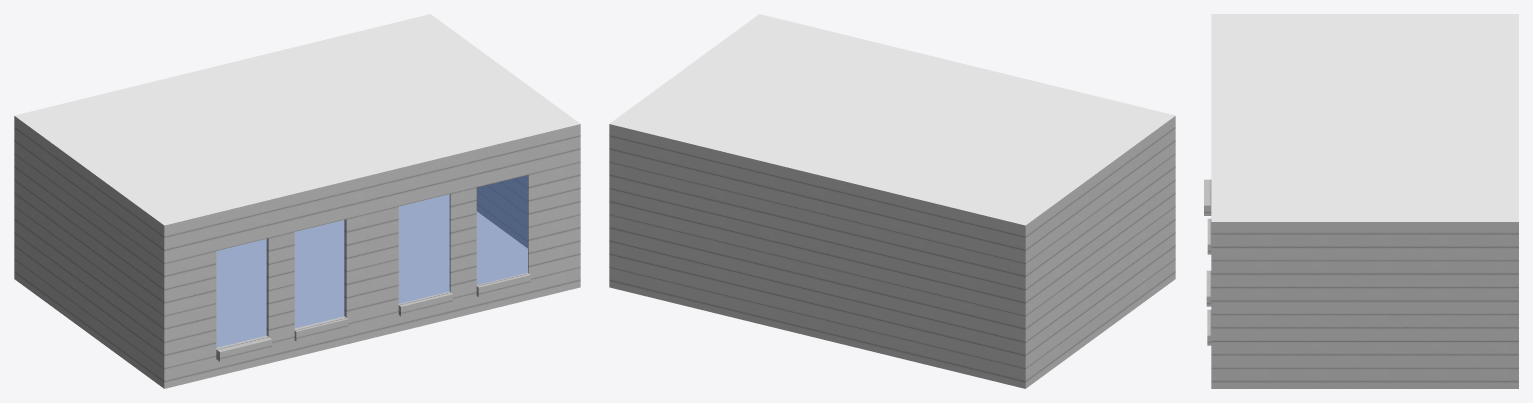
The model's file is maison3_first.dae.
3 views of the same model, side by side, from view 1: azimuth 30°, elevation 25°; view 2: azimuth 150°, elevation 25°; view 3: azimuth 270°, elevation 25° (orthographic). The views are drawn at different scales.
Visible parts, largest first — view 1: SketchUp (×11); view 2: SketchUp (×2); view 3: SketchUp (×3).
Boxes of the visible parts, bbox=[...] form: SketchUp (×11): bbox=[14, 14, 580, 388]; SketchUp (×2): bbox=[609, 14, 1175, 388]; SketchUp (×3): bbox=[1204, 14, 1518, 388].
Size of the model in its own units: 315 by 202 by 118.
Materials: 3 (1 with a texture image).
